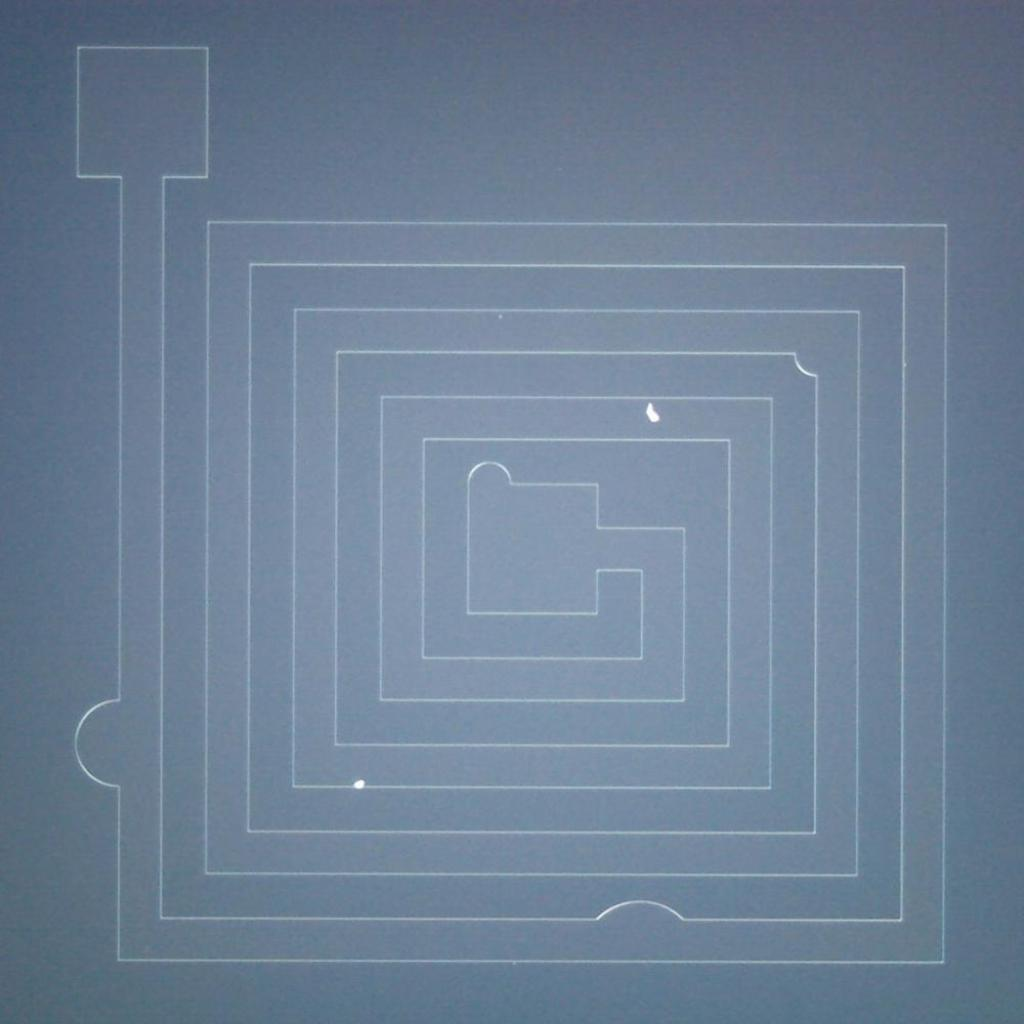Bdot: (644, 403, 663, 422)
dot: (354, 780, 364, 790), (498, 314, 502, 318)
